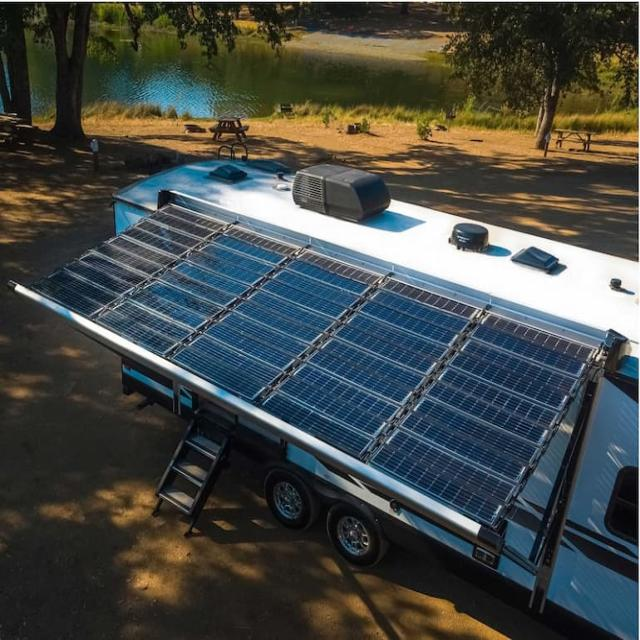clean-solar-panel: (34, 203, 599, 527)
